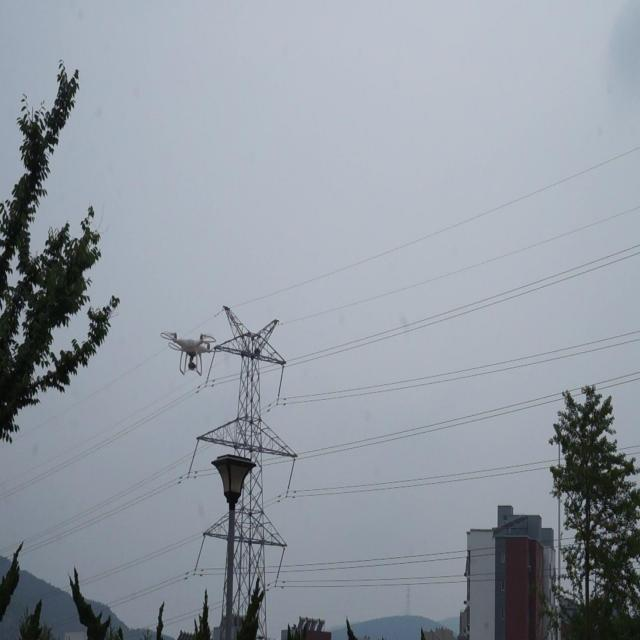UAV: (160, 332, 217, 376)
